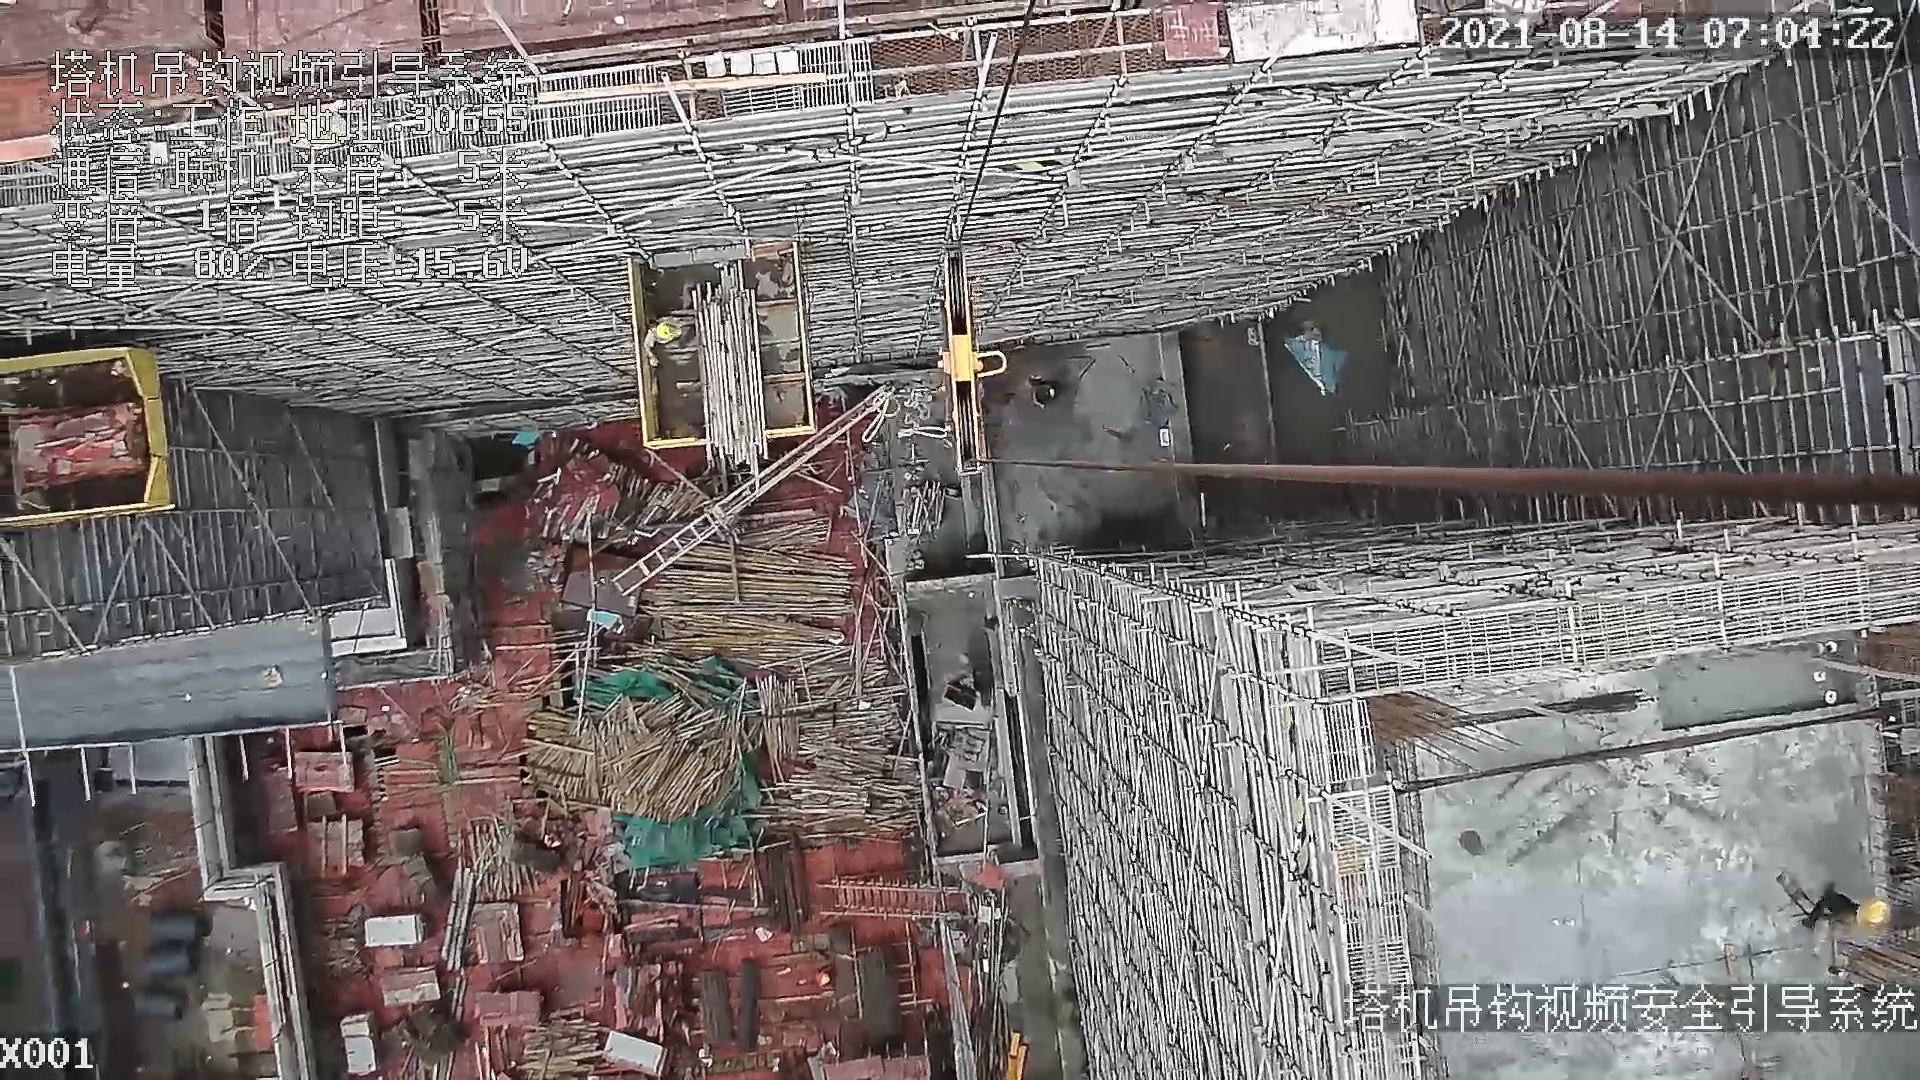person: (1805, 886, 1897, 941), (640, 306, 698, 372)
